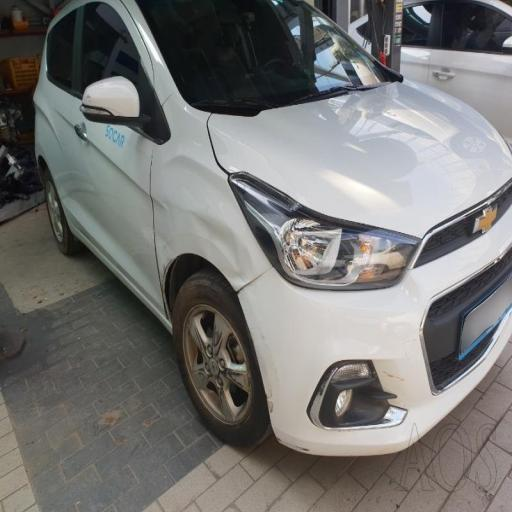dent: (150, 128, 288, 347)
scratch: (258, 344, 429, 464)
